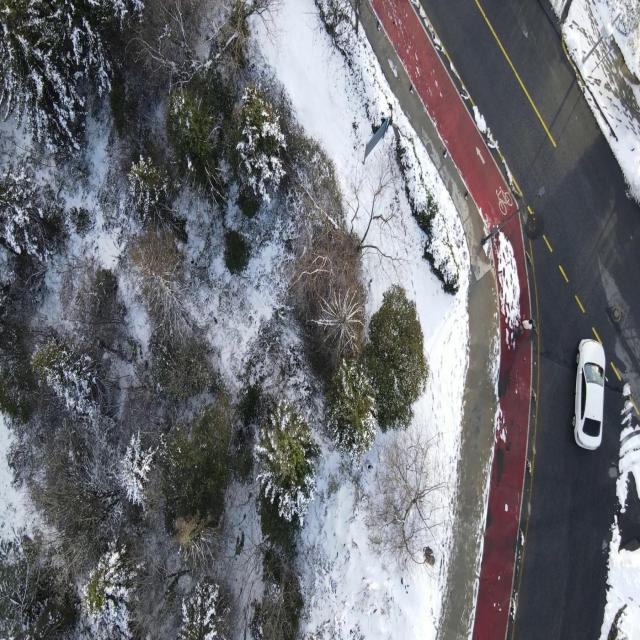p3rson: (512, 324, 523, 345), (522, 315, 533, 330)
